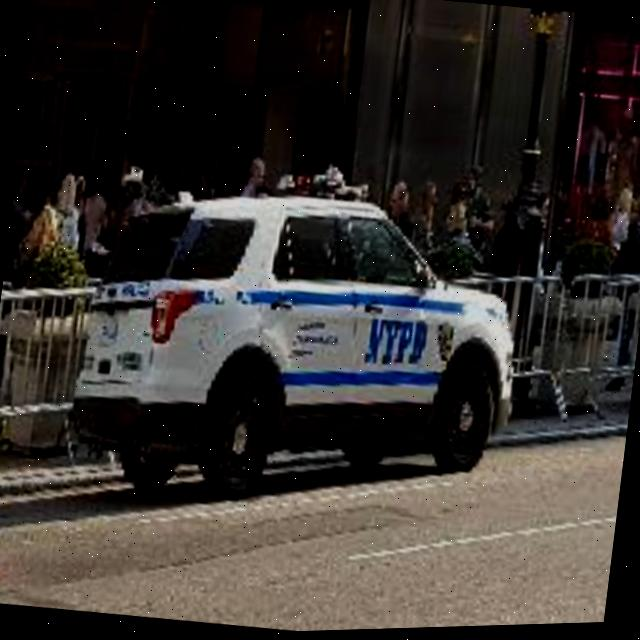emergency: (60, 141, 538, 540)
